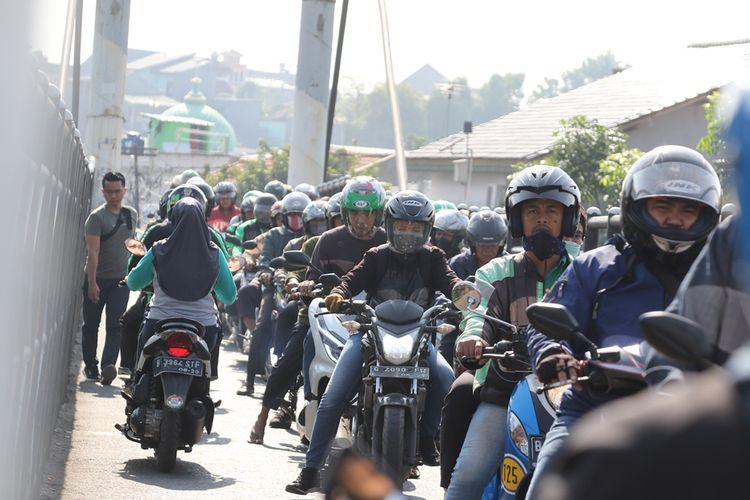plate: (152, 357, 202, 375), (368, 364, 428, 379)
